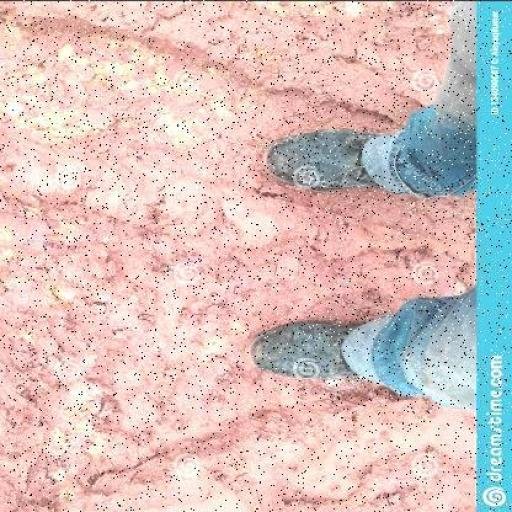safety_shoe: (241, 315, 382, 378), (264, 131, 398, 190)
